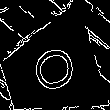O_W: (23, 41, 78, 99)
